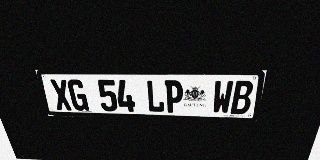4: (115, 80, 135, 112)
5: (97, 80, 118, 111)
B: (230, 81, 254, 114)
G: (66, 79, 89, 111)
L: (146, 80, 165, 113)
P: (165, 80, 183, 113)
W: (212, 80, 234, 114)
X: (49, 79, 73, 110)
